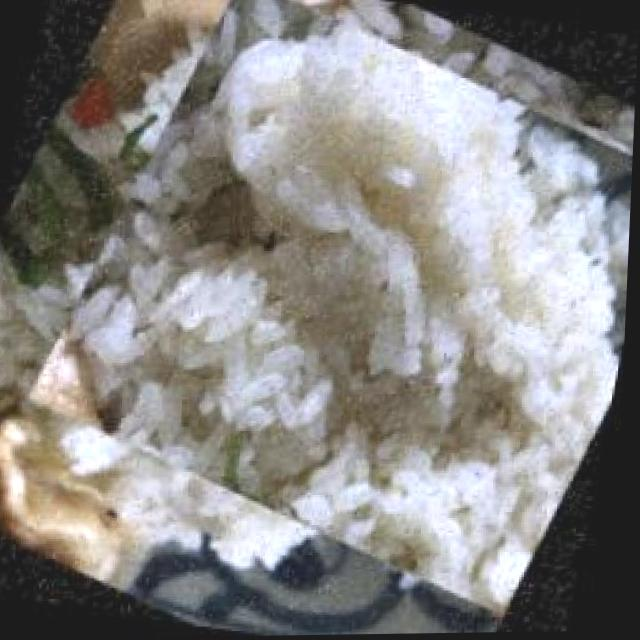rice: (10, 0, 640, 640)
